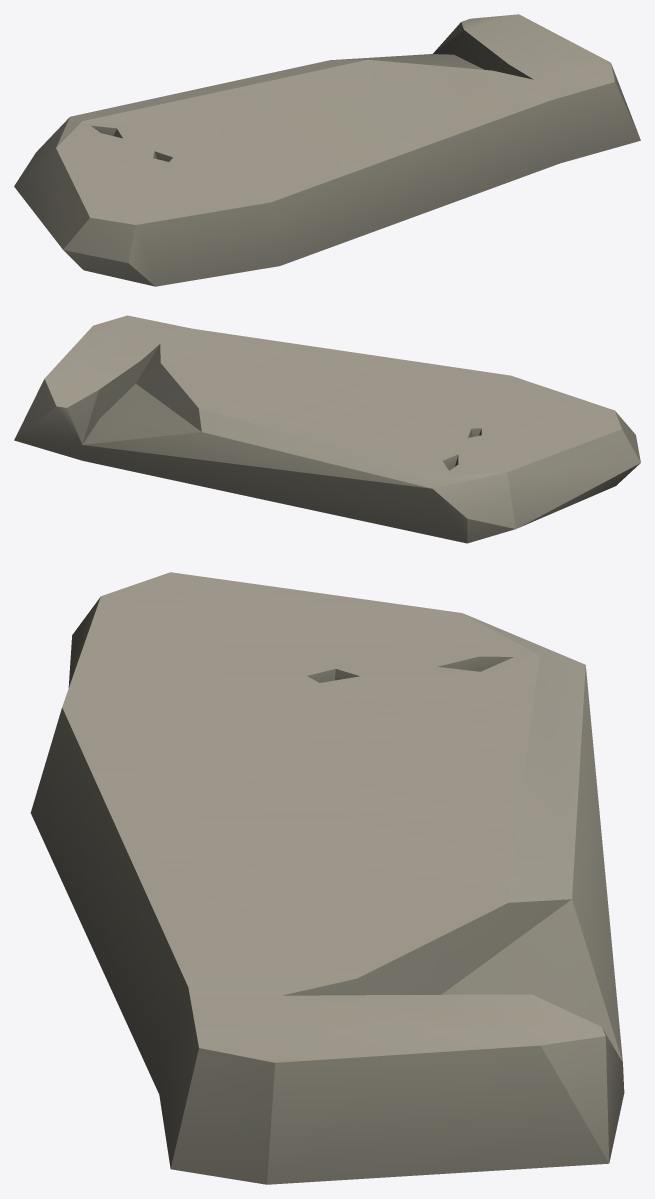
File: Stone_Step_1A.fbx
The picture shows the model from 3 angles, top to bottom: view 1: azimuth 30°, elevation 25°; view 2: azimuth 150°, elevation 25°; view 3: azimuth 270°, elevation 25°; orthographic projection. The views are drawn at different scales.
Visible parts, largest first — view 1: Stone_Step_1A; view 2: Stone_Step_1A; view 3: Stone_Step_1A.
Part boxes in pixels (bbox=[...]): Stone_Step_1A: bbox=[14, 14, 640, 286]; Stone_Step_1A: bbox=[14, 315, 640, 543]; Stone_Step_1A: bbox=[30, 572, 624, 1184].
Bounding box in the file's own units: 3.13 × 0.2904 × 1.49.
